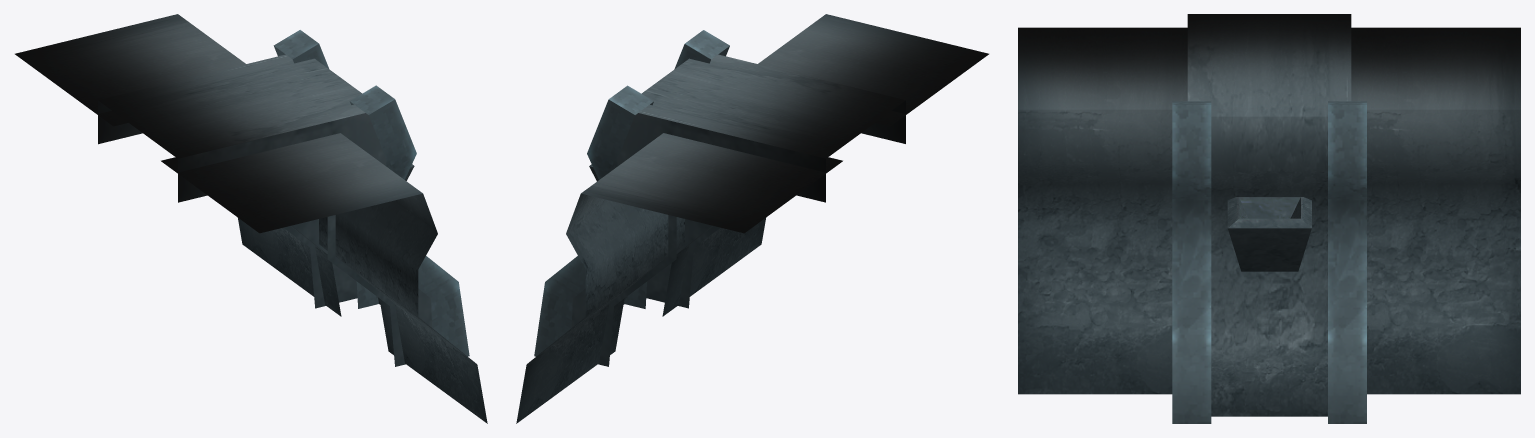
The model's file is FB_Dixiashuidao_qiang.FBX.
3 views of the same model, side by side, from view 1: azimuth 30°, elevation 25°; view 2: azimuth 150°, elevation 25°; view 3: azimuth 270°, elevation 25° (orthographic). The views are drawn at different scales.
Visible parts, largest first — view 1: Object04, Object57, Object56; view 2: Object04, Object56, Object57; view 3: Object04, Object57, Object56.
Boxes of the visible parts, bbox=[...] form: Object04: bbox=[15, 14, 487, 423]; Object57: bbox=[349, 85, 469, 356]; Object56: bbox=[273, 30, 378, 308]; Object04: bbox=[516, 14, 988, 423]; Object56: bbox=[534, 85, 653, 356]; Object57: bbox=[625, 30, 729, 308]; Object04: bbox=[1018, 14, 1520, 416]; Object57: bbox=[1172, 101, 1211, 423]; Object56: bbox=[1328, 101, 1366, 423].
Size of the model in its own units: 6.71 by 6.18 by 9.99.
